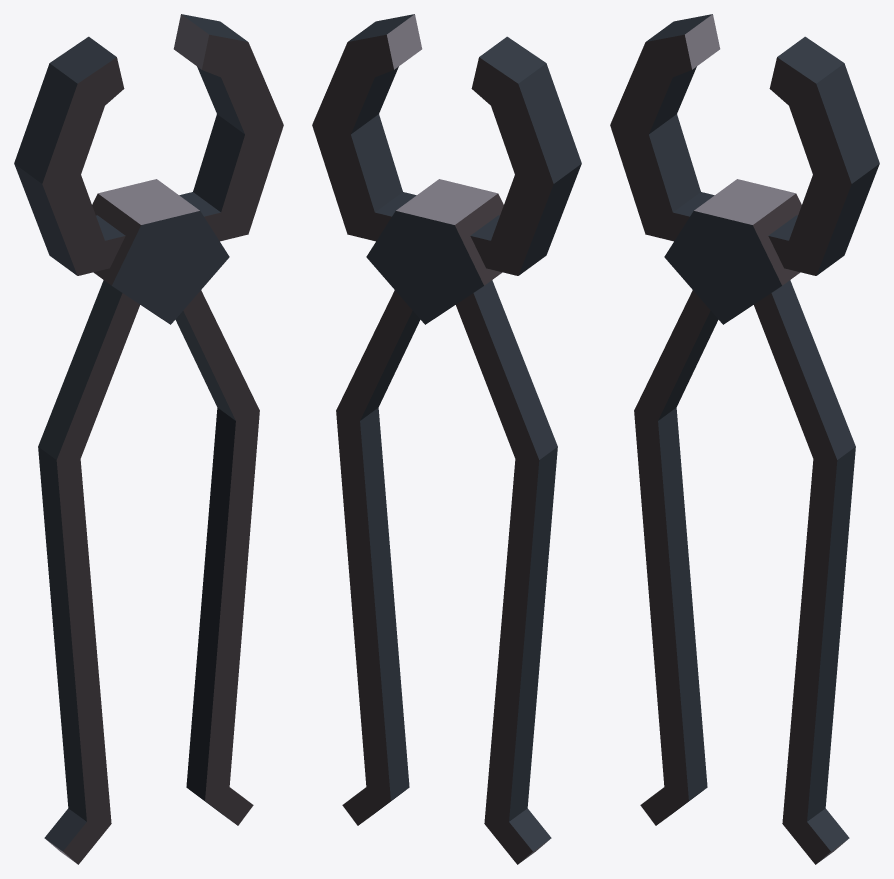
Rendered from TB_Prop_Pingers_Big.FBX.
3 views of the same model, side by side, from view 1: azimuth 30°, elevation 25°; view 2: azimuth 150°, elevation 25°; view 3: azimuth 330°, elevation 25° (orthographic).
Parts seen in each view (by area): view 1: TB_Prop_Pingers_Big; view 2: TB_Prop_Pingers_Big; view 3: TB_Prop_Pingers_Big.
Boxes of the visible parts, <box> form: TB_Prop_Pingers_Big: <box>14,14,283,864</box>; TB_Prop_Pingers_Big: <box>312,14,581,864</box>; TB_Prop_Pingers_Big: <box>610,14,879,864</box>.
Bounding box in the file's own units: 0.6078 × 1.93 × 0.1895.
